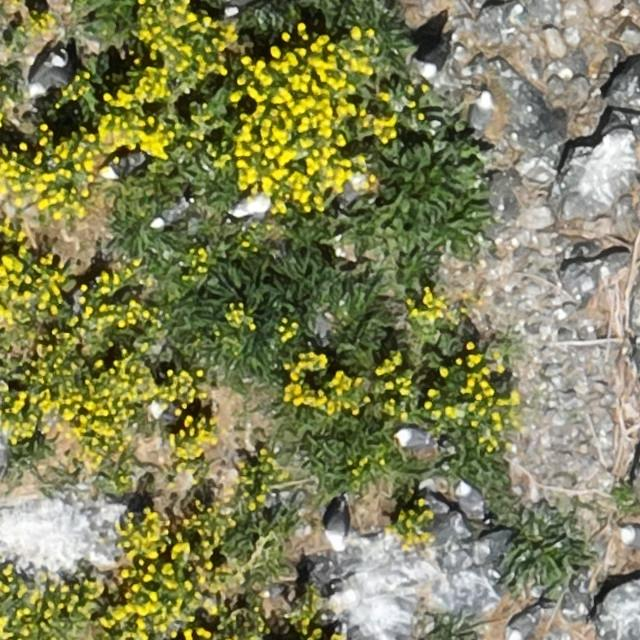umineko: (31, 56, 66, 94), (458, 484, 486, 515), (508, 610, 539, 638), (153, 198, 186, 224), (328, 504, 348, 545), (470, 95, 492, 132), (422, 46, 449, 76), (397, 429, 431, 448), (621, 529, 640, 549)
